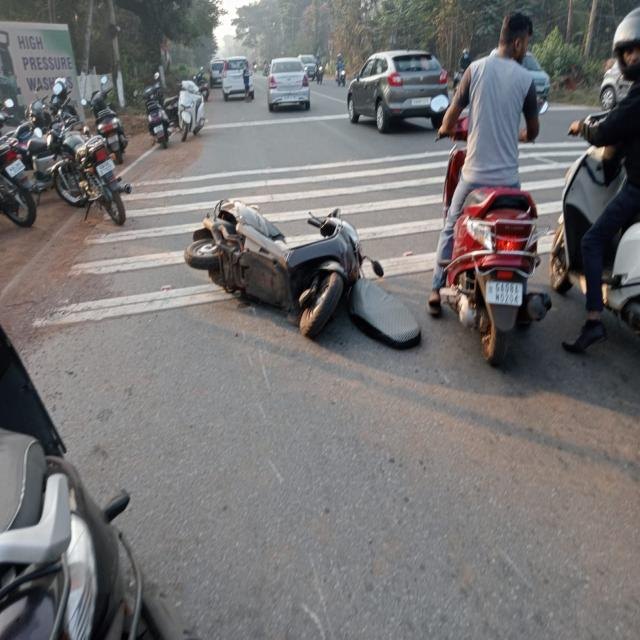car: (349, 50, 448, 132), (268, 56, 310, 110)
motorcycle: (0, 327, 174, 639), (428, 13, 550, 363), (549, 7, 640, 353), (185, 201, 364, 336), (48, 126, 130, 224), (12, 121, 55, 200), (0, 136, 36, 226), (90, 90, 128, 163), (141, 73, 171, 148), (178, 80, 205, 140)
